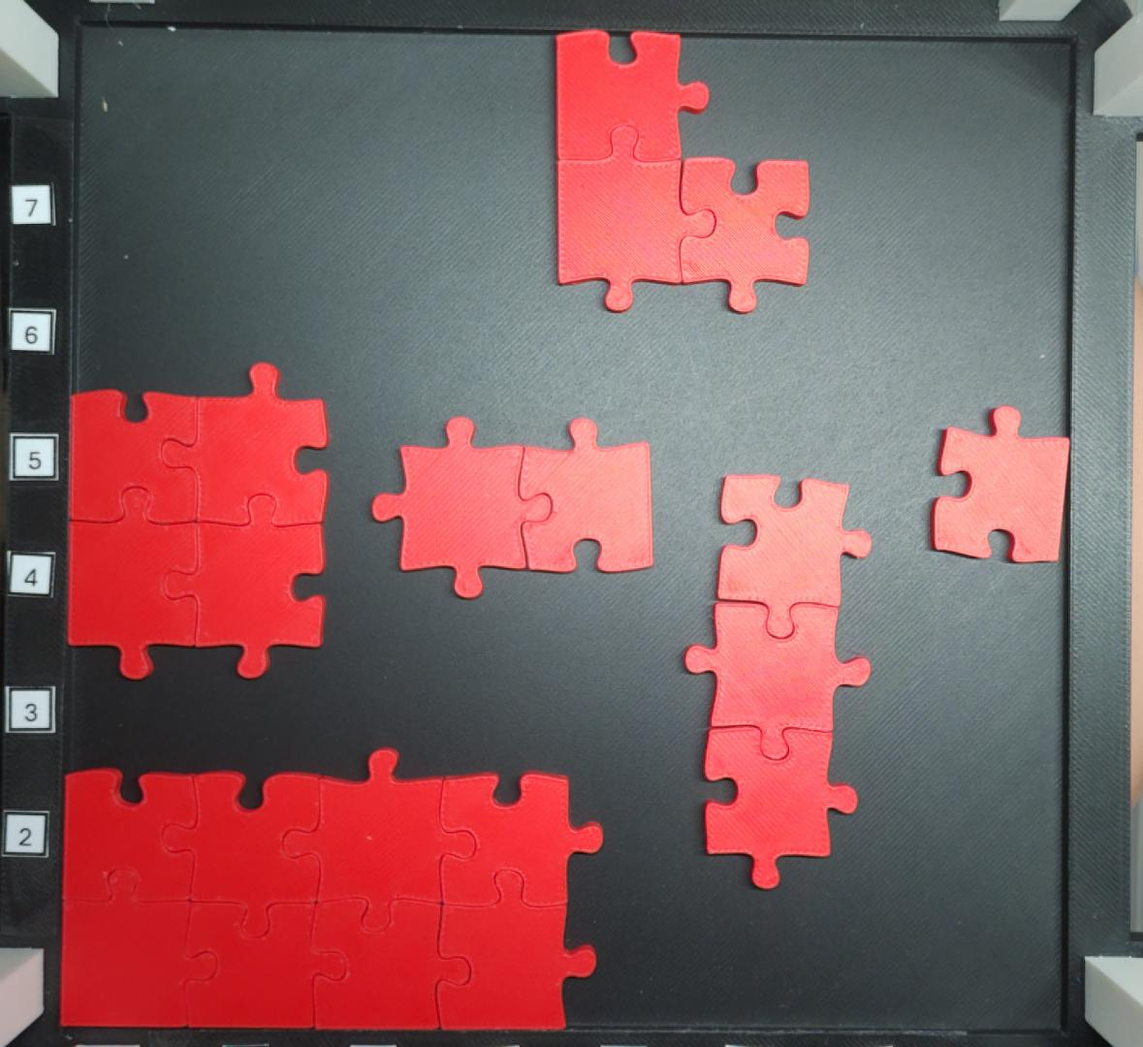p_1: (925, 406, 1075, 568)
p_2: (369, 414, 657, 603)
p_3: (682, 474, 874, 888), (547, 29, 813, 314)
p_4: (65, 363, 331, 678)
p_m: (59, 746, 604, 1028)
